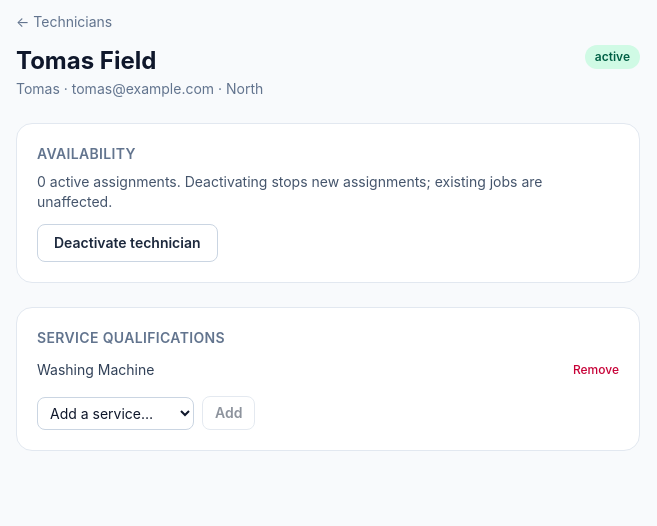
Scenario: OperationsTechnicianDetailPage › adds a qualification
The width and height of the screenshot is (657, 526).
Expected: the heading "Tomas Field" is shown, [16,46,156,75]
Select "Wi-Fi Mesh Setup" in the dropdown named "service to add" at {"x": 116, "y": 413}, box [37,396,194,430]
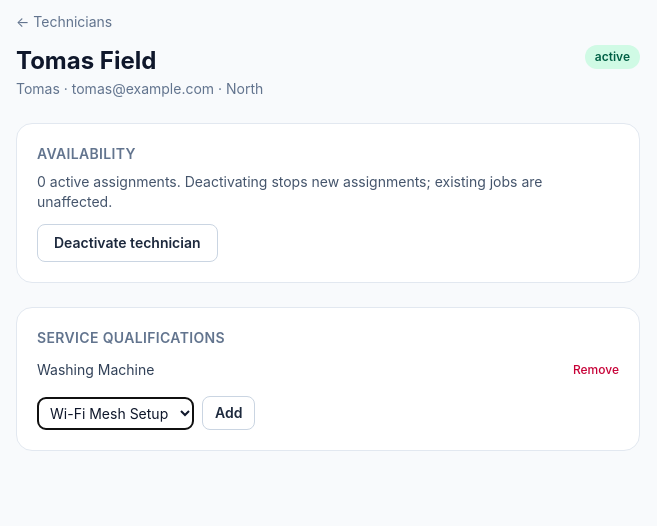
Click the button "Add".
click(229, 413)  # box [202,396,256,430]
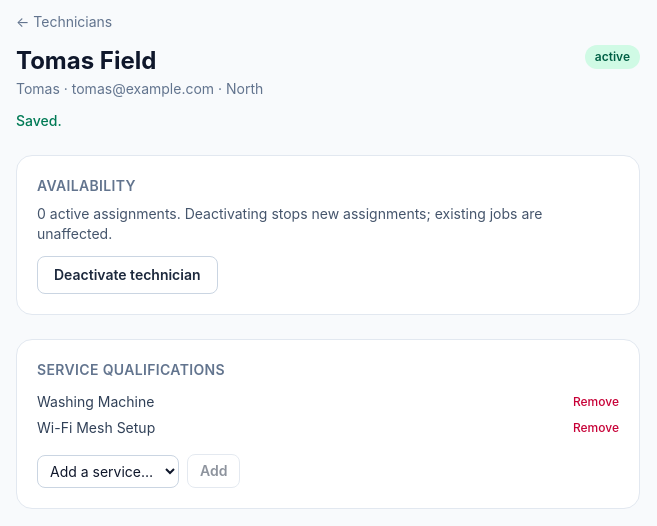
Result: the text "Wi-Fi Mesh Setup" is shown at [37,418,155,438]
